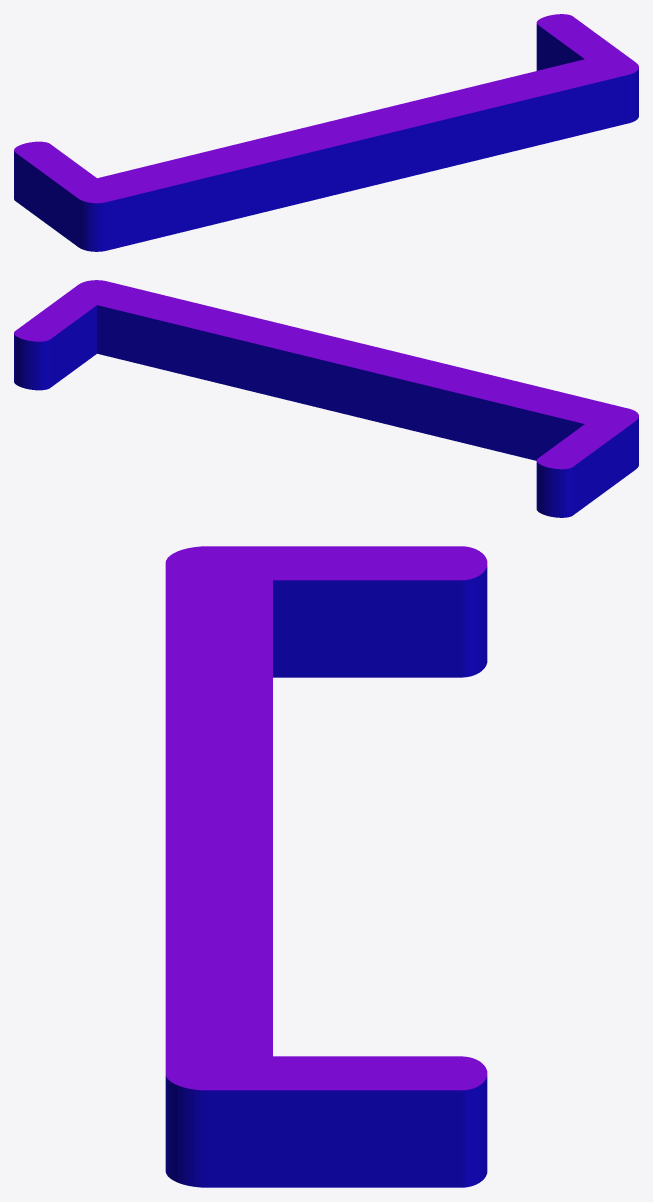
File: bar.dae
3 views of the same model, one above another, from view 1: azimuth 30°, elevation 25°; view 2: azimuth 150°, elevation 25°; view 3: azimuth 270°, elevation 25° (orthographic). The views are drawn at different scales.
Visible parts, largest first — view 1: bar; view 2: bar; view 3: bar.
Part boxes in pixels (bbox=[...]): bar: bbox=[14, 14, 638, 251]; bar: bbox=[14, 280, 638, 517]; bar: bbox=[165, 546, 487, 1187].
Bounding box in the file's own units: 24 × 6 × 2.
